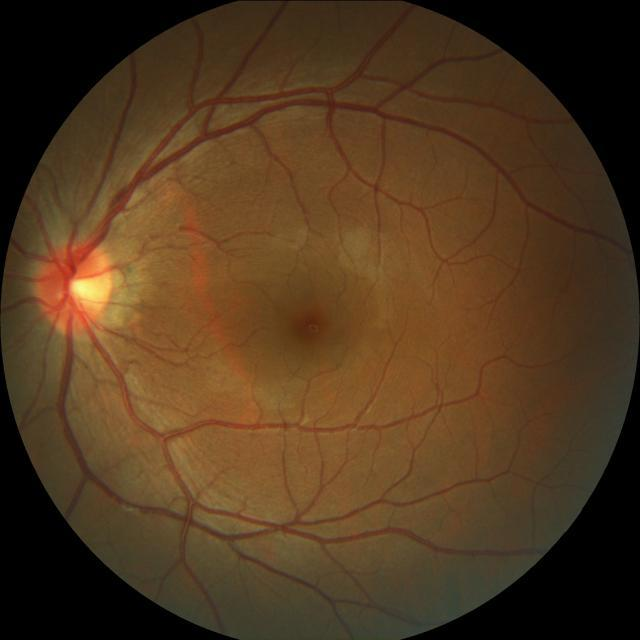OC: (68, 278, 98, 300)
OD: (32, 238, 116, 332)
